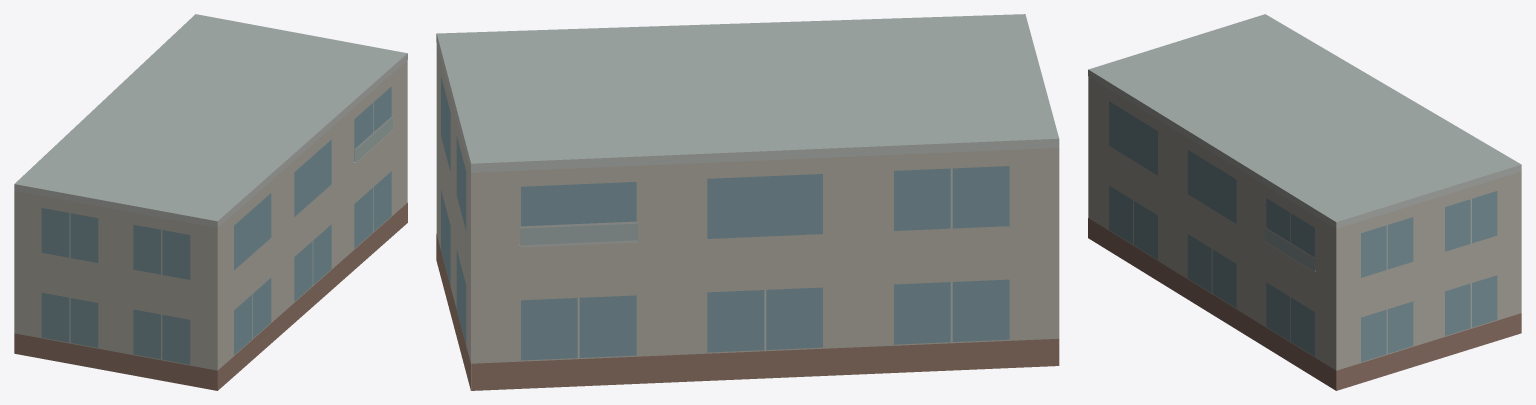
File: survey-upis-32774042.glb
The picture shows the model from 3 angles, left to right: view 1: azimuth 30°, elevation 25°; view 2: azimuth 150°, elevation 25°; view 3: azimuth 270°, elevation 25°; orthographic projection. The views are drawn at different scales.
Visible parts, largest first — view 1: survey-upis-32774042.tmp; view 2: survey-upis-32774042.tmp; view 3: survey-upis-32774042.tmp.
Boxes of the visible parts, x1=… form: survey-upis-32774042.tmp: x1=14, y1=14, x2=407, y2=390; survey-upis-32774042.tmp: x1=436, y1=14, x2=1059, y2=390; survey-upis-32774042.tmp: x1=1088, y1=14, x2=1521, y2=390.
Size of the model in its own units: 16.16 by 6.1 by 14.22.
